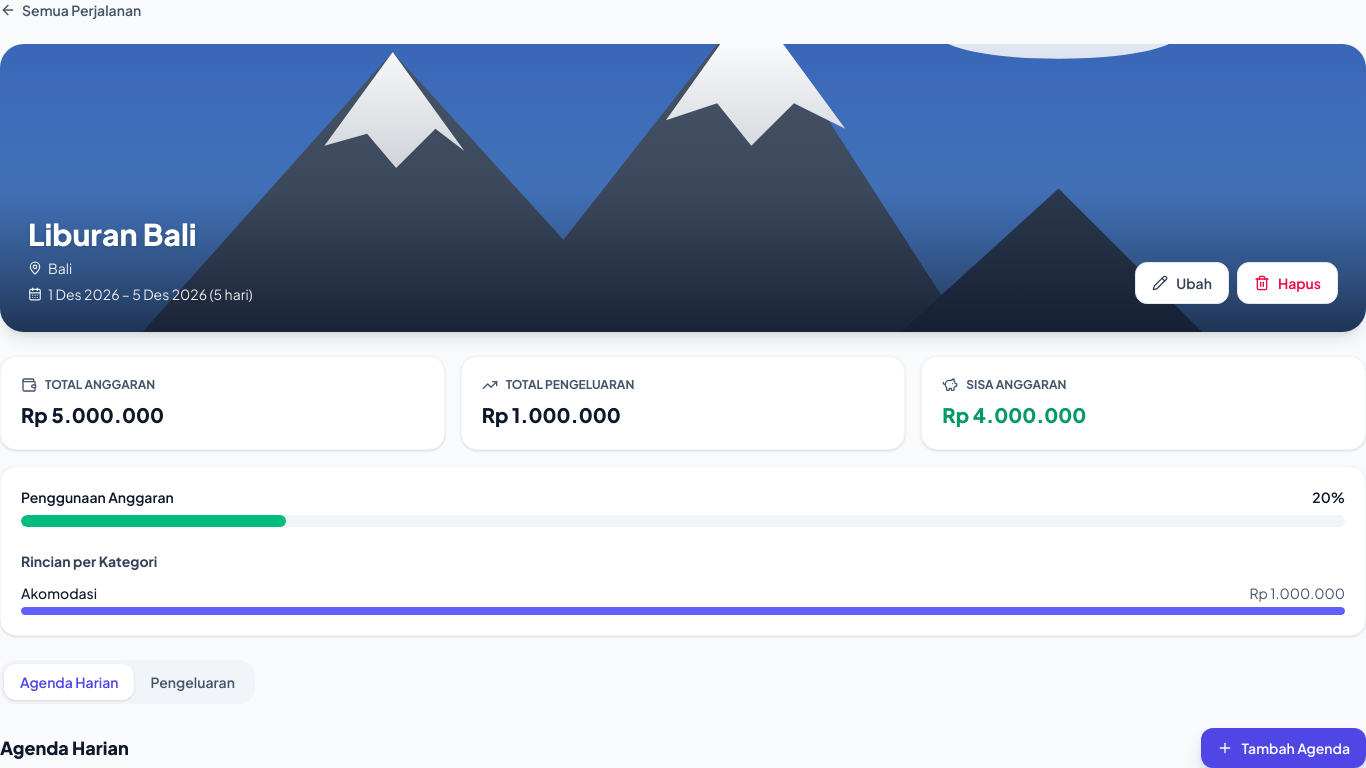
Scenario: DetailPage › ubah & hapus perjalanan › membuka modal ubah perjalanan dan memuat ulang setelah tersimpan
This screenshot has width=1366, height=768.
Click the button "Ubah".
click(1182, 283)  # box [1135, 262, 1229, 304]
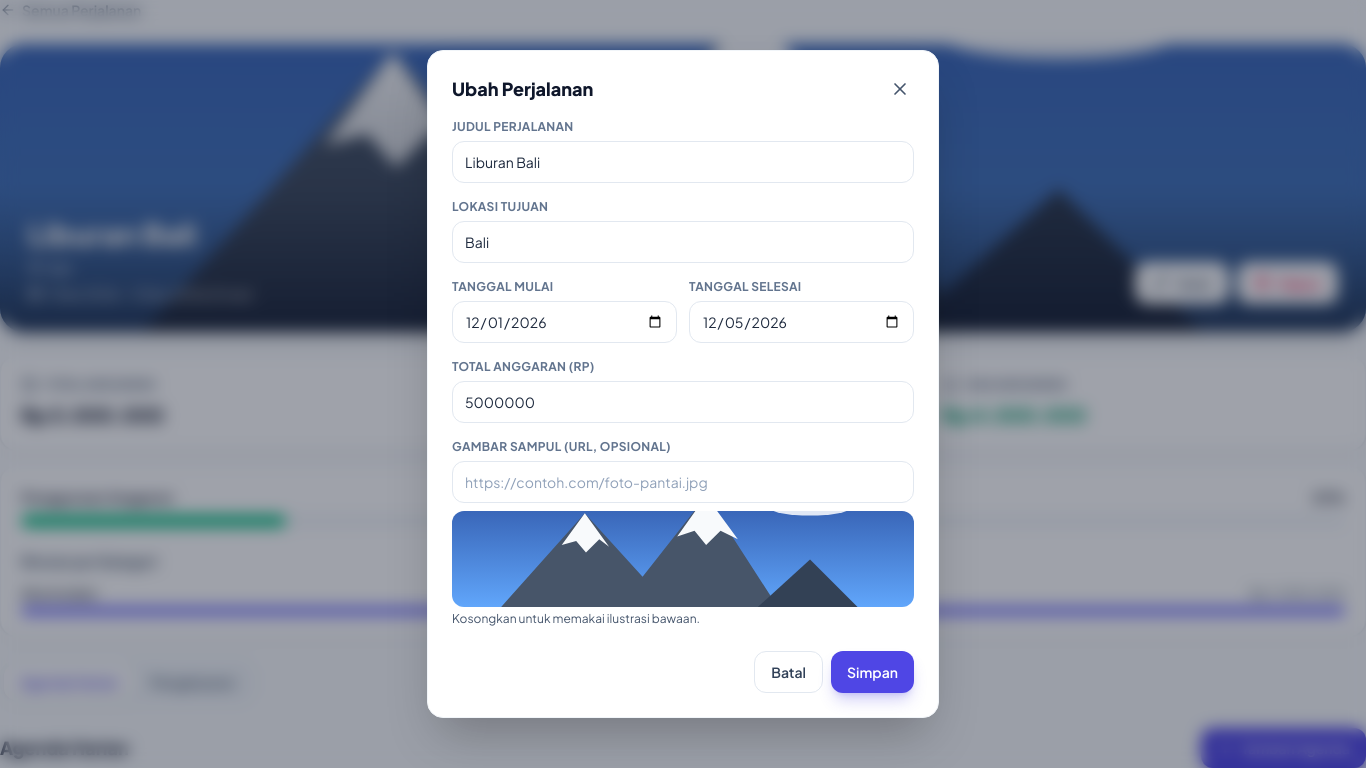
Expected: the element with test id "trip-modal" is shown
